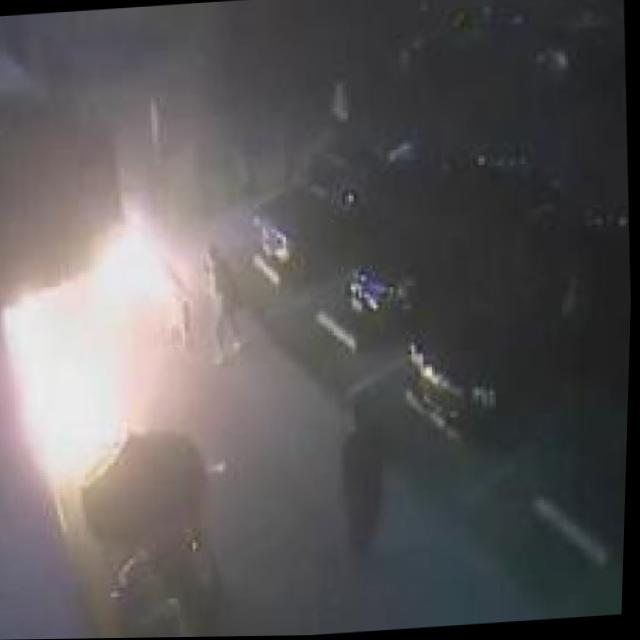fire: (0, 216, 203, 496)
